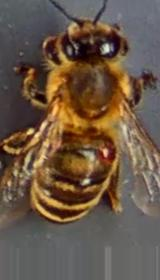varroa_mite: (92, 132, 126, 168)
